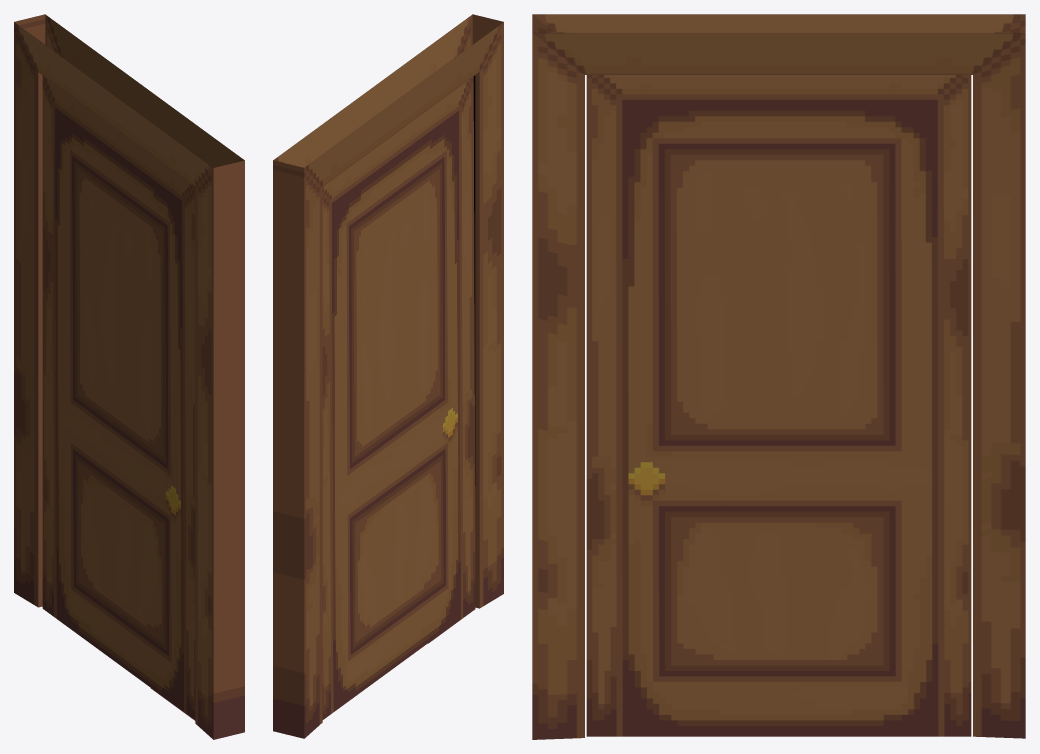
File: portarafaelanimações.fbx
The picture shows the model from 3 angles, left to right: view 1: azimuth 30°, elevation 25°; view 2: azimuth 150°, elevation 25°; view 3: azimuth 270°, elevation 25°; orthographic projection. The views are drawn at different scales.
Parts seen in each view (by area): view 1: Cube.001, Cube.002; view 2: Cube.001, Cube.002; view 3: Cube.001, Cube.002.
Boxes of the visible parts, <box> form: Cube.001: <box>42,75,195,719</box>; Cube.002: <box>14,14,244,739</box>; Cube.001: <box>322,75,475,719</box>; Cube.002: <box>273,14,503,738</box>; Cube.001: <box>586,75,971,736</box>; Cube.002: <box>532,14,1025,739</box>.
Bounding box in the file's own units: 51.86 × 906 × 572.
3 materials, 2 textured.
